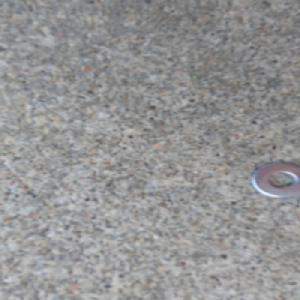Washer: (244, 161, 300, 200)
